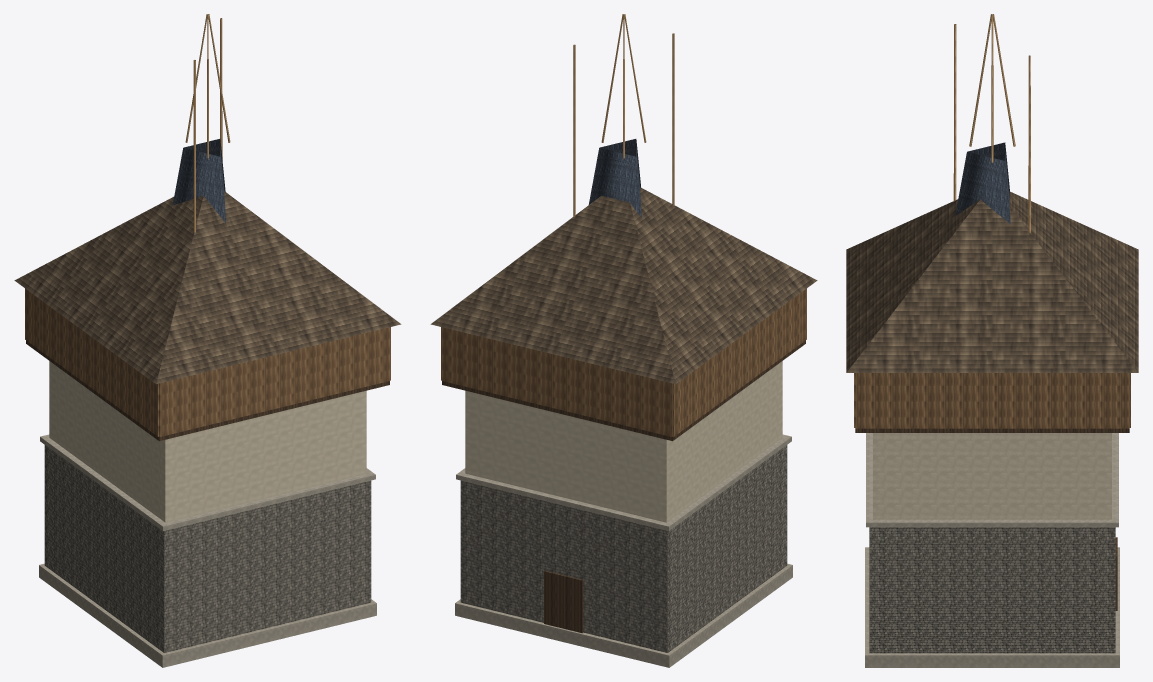
Rendered from Keep_Timber_Spire_Site_1_LOD2.gltf.
The picture shows the model from 3 angles, left to right: view 1: azimuth 30°, elevation 25°; view 2: azimuth 150°, elevation 25°; view 3: azimuth 270°, elevation 25°; orthographic projection. The views are drawn at different scales.
Parts seen in each view (by area): view 1: Keep_Timber_Spire_Site_1_LOD2; view 2: Keep_Timber_Spire_Site_1_LOD2; view 3: Keep_Timber_Spire_Site_1_LOD2.
Part boxes in pixels (left/top/right/bottom): Keep_Timber_Spire_Site_1_LOD2: left=14, top=14, right=401, bottom=667; Keep_Timber_Spire_Site_1_LOD2: left=430, top=14, right=817, bottom=667; Keep_Timber_Spire_Site_1_LOD2: left=846, top=14, right=1138, bottom=667.
Size of the model in its own units: 16.6 by 37.61 by 16.6.
8 materials, 8 textured.
